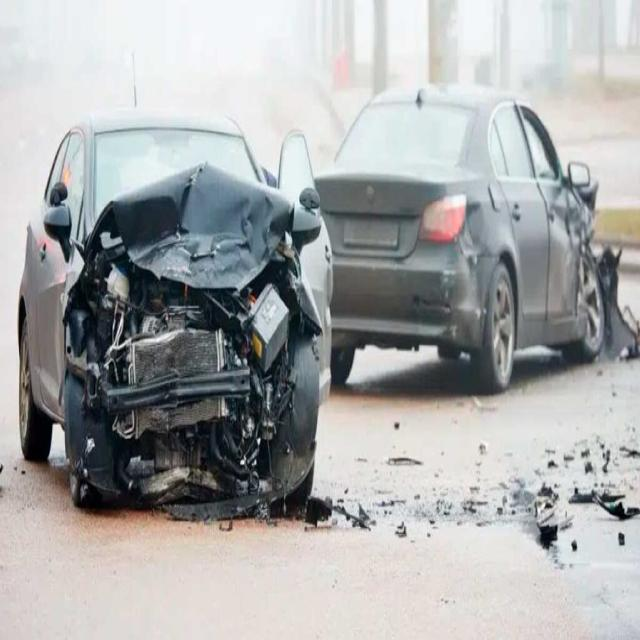Accident: (15, 117, 351, 523), (305, 75, 627, 402)
